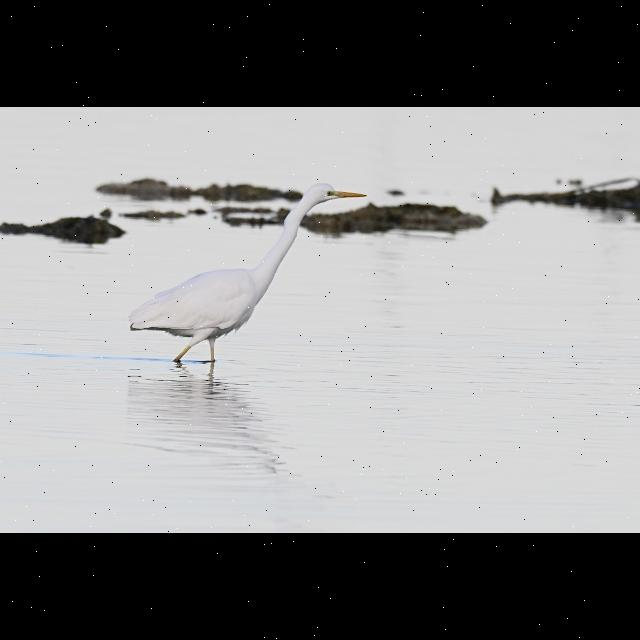egret: (120, 179, 376, 377)
